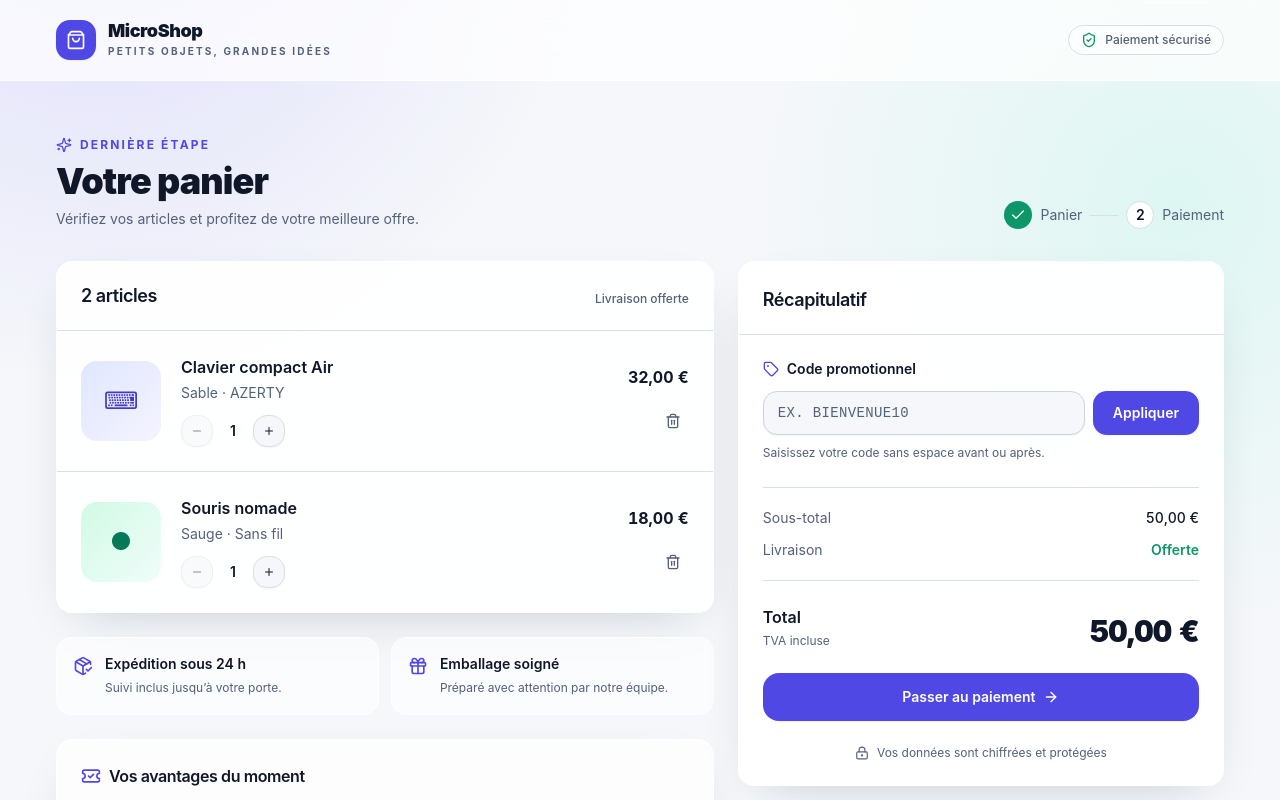
Test: gestion des codes promotionnels au panier › retire le code actif via l'API et restaure le sous-total
Type "BIENVENUE10" into the field labelled "Code promotionnel" at coordinates (924, 413), box [763, 391, 1085, 435]
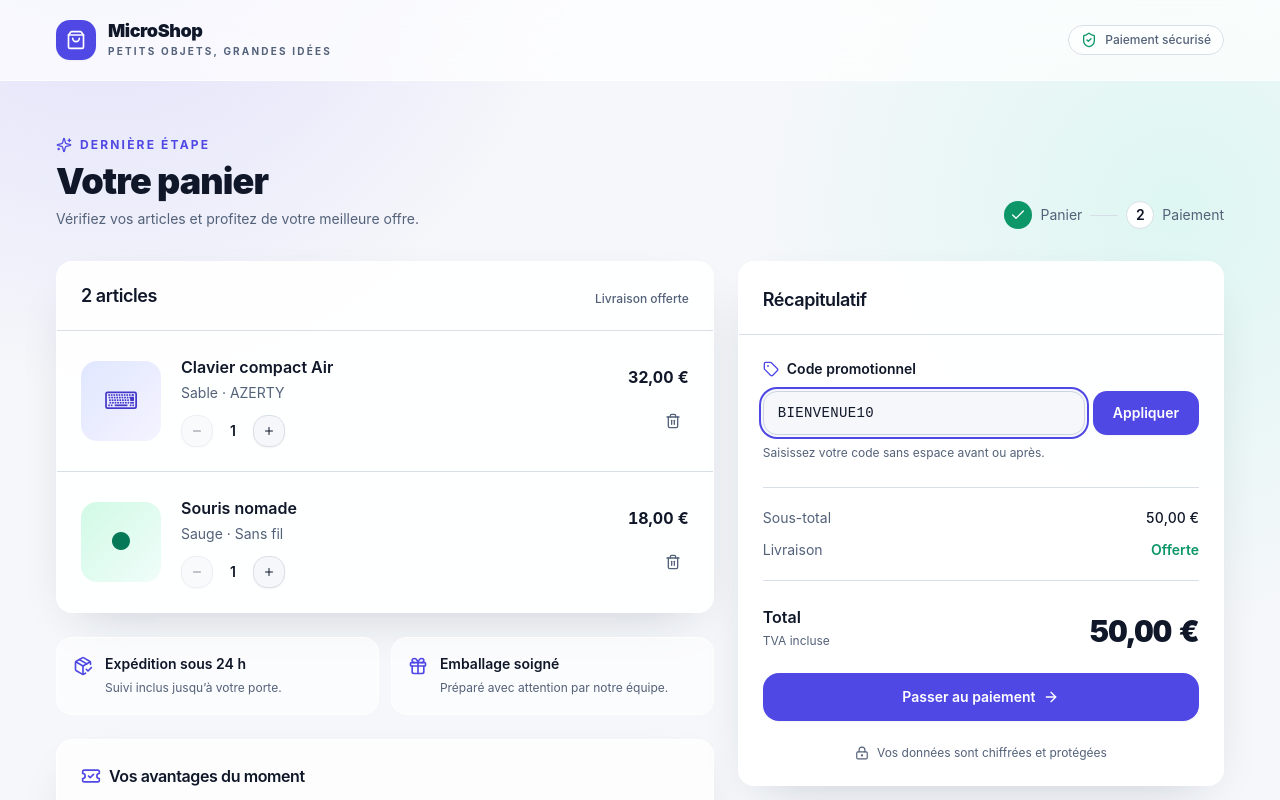
Click the button "Appliquer" at coordinates (1146, 413), box [1093, 391, 1199, 435]
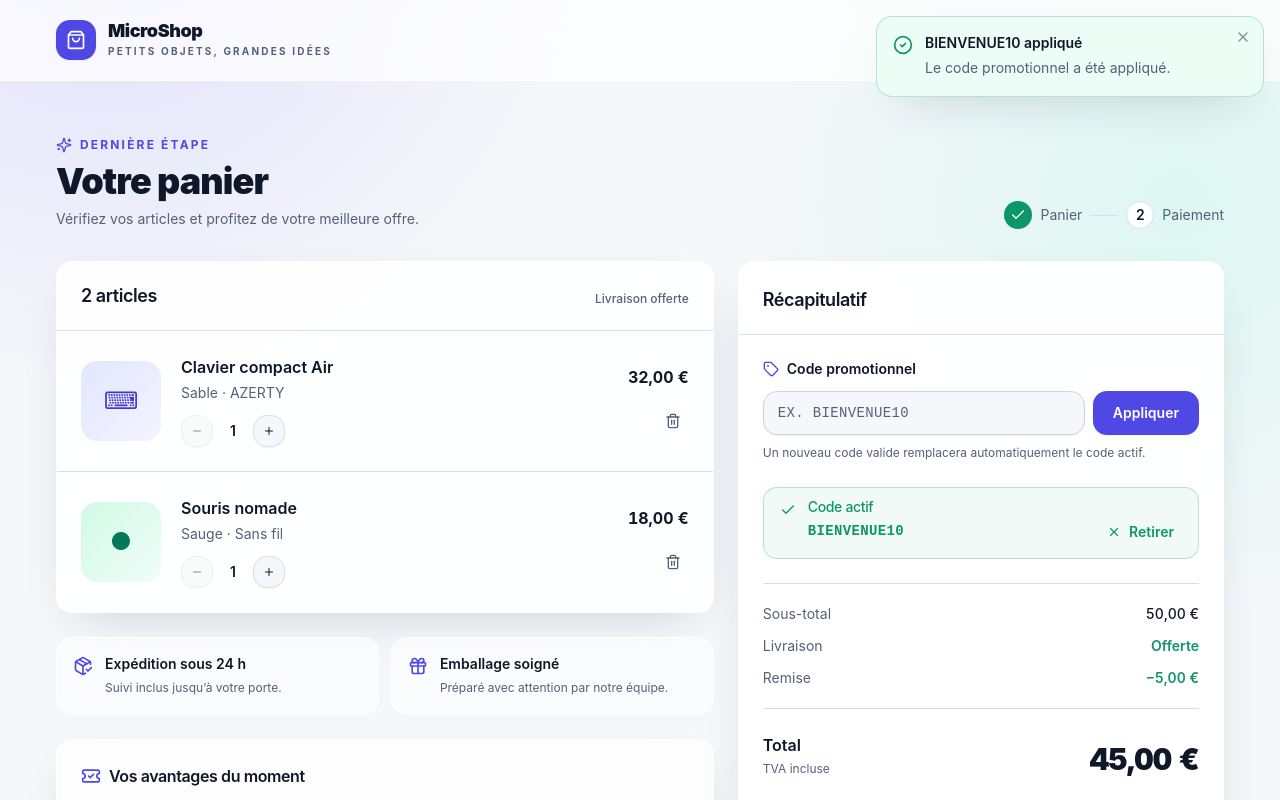
Click the button with aria-label "Retirer le code BIENVENUE10" at coordinates (1141, 532), box [1099, 518, 1182, 546]
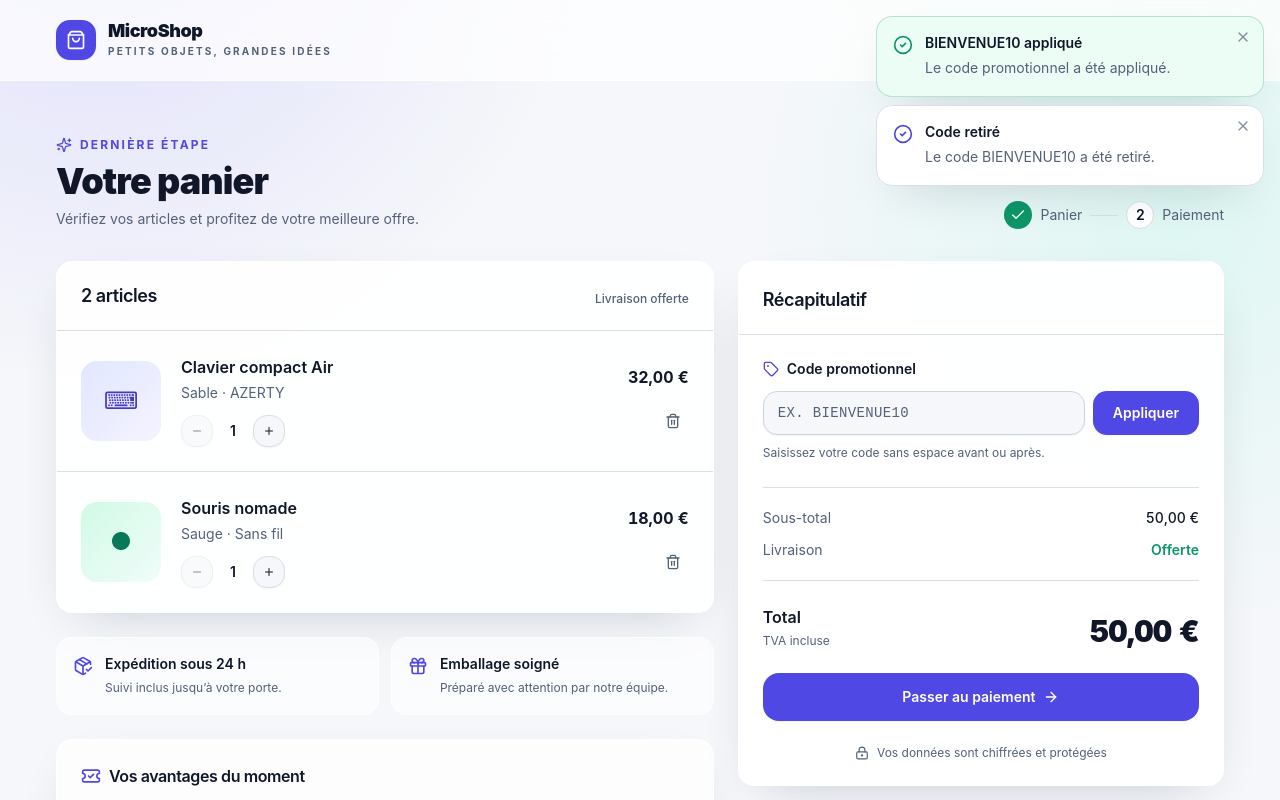
Result: the message with test id "active-promotion" is gone
Result: the text with test id "order-total" reads "50,00 €" at [1090, 612, 1199, 648]
